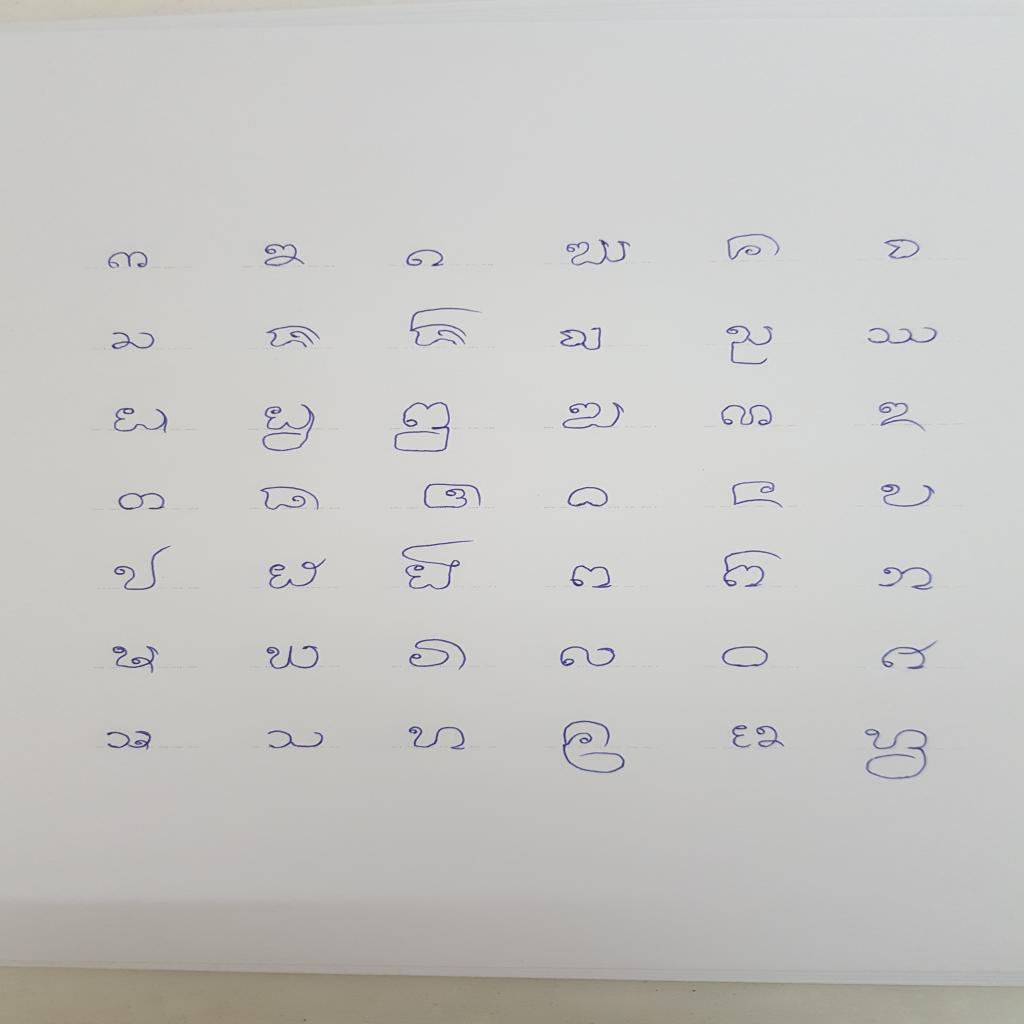LN001: (102, 249, 156, 272)
LN002: (259, 242, 311, 271)
LN003: (402, 249, 450, 271)
LN004: (560, 236, 637, 270)
LN005: (720, 231, 788, 265)
LN006: (879, 238, 926, 263)
LN007: (107, 329, 161, 354)
LN008: (263, 324, 326, 353)
LN009: (404, 305, 491, 352)
LN010: (553, 325, 608, 354)
LN011: (720, 323, 780, 369)
LN012: (862, 324, 944, 348)
LN013: (108, 405, 177, 438)
LN014: (258, 401, 320, 455)
LN015: (390, 400, 458, 457)
LN016: (557, 400, 631, 432)
LN017: (717, 403, 778, 430)
LN018: (875, 400, 932, 437)
LN019: (114, 490, 171, 514)
LN020: (253, 484, 328, 516)
LN021: (417, 481, 489, 513)
LN022: (564, 485, 615, 511)
LN023: (725, 479, 791, 514)
LN024: (875, 482, 943, 512)
LN025: (109, 542, 179, 595)
LN026: (264, 555, 333, 594)
LN027: (398, 538, 482, 594)
LN028: (567, 561, 619, 593)
LN029: (718, 548, 788, 592)
LN031: (106, 643, 166, 678)
LN032: (259, 642, 326, 673)
LN033: (404, 637, 473, 675)
LN034: (555, 644, 624, 671)
LN035: (716, 643, 776, 672)
LN036: (876, 638, 946, 675)
LN037: (99, 729, 160, 755)
LN038: (259, 727, 332, 753)
LN039: (404, 724, 473, 755)
LN040: (557, 718, 632, 778)
LN041: (726, 723, 793, 752)
LN042: (860, 726, 936, 785)
